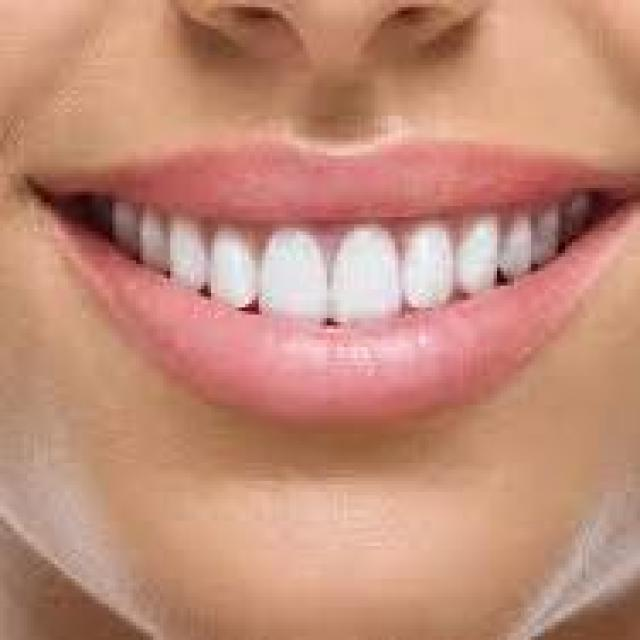tooth: (327, 232, 412, 318), (259, 238, 340, 314), (211, 228, 262, 307), (167, 217, 211, 289), (412, 232, 449, 300), (456, 217, 487, 286), (497, 228, 534, 278), (136, 210, 167, 268)
